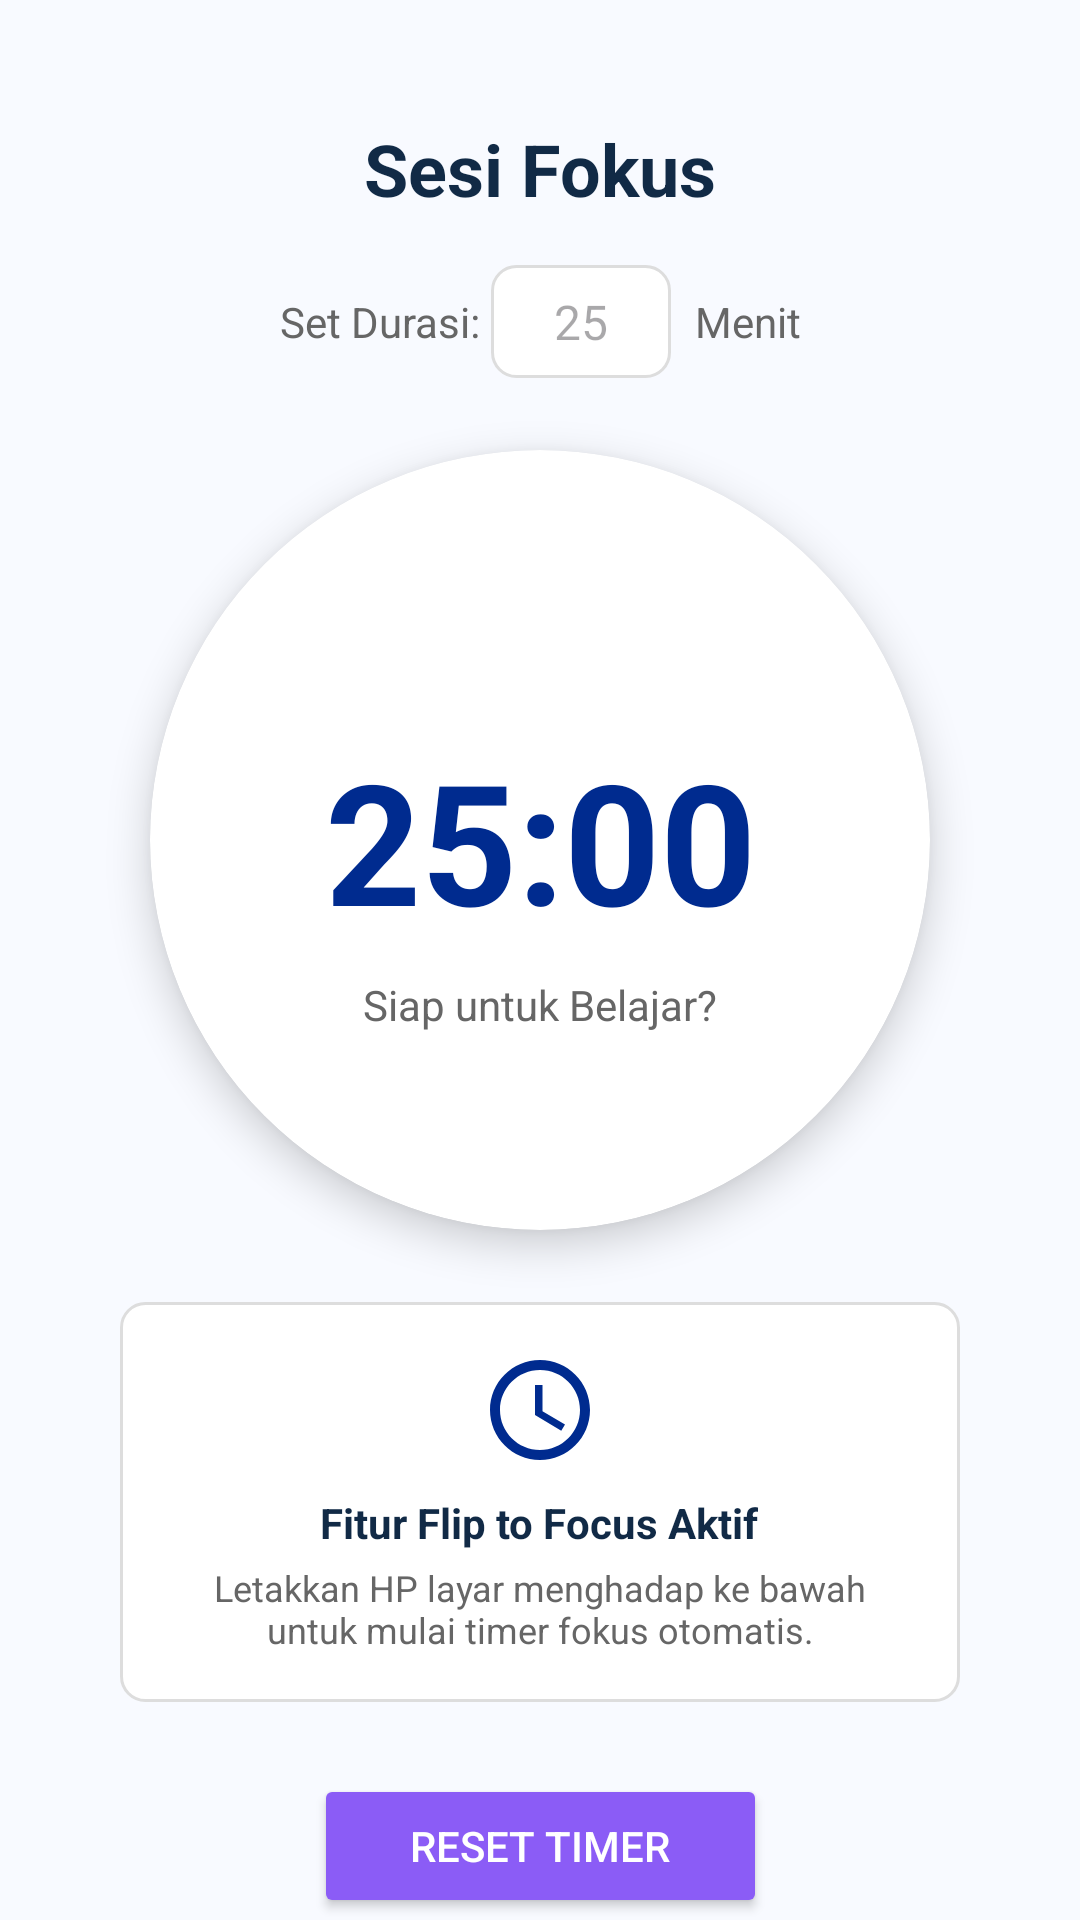

Locate icon controls on the screen. Image size 1080x1920, boxes as (x1, y1, x2, y2).
clock: (490, 1360, 590, 1460)
